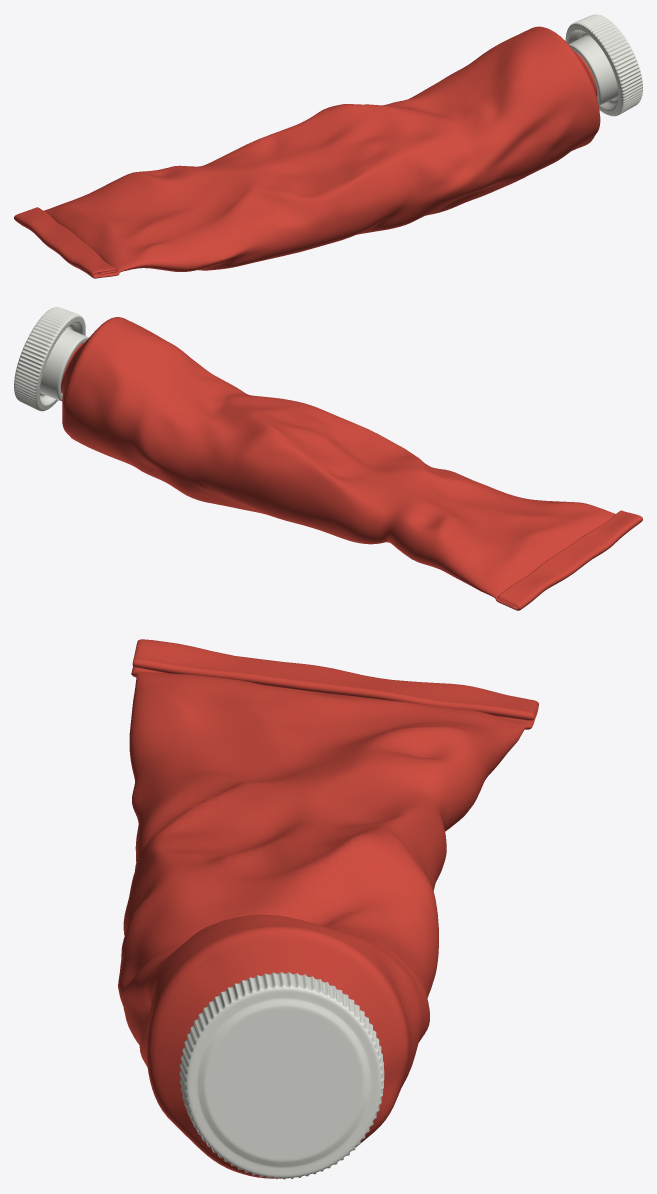
Rendered from paint_container_tube_f01.glb.
3 renders of one model, top to bottom at view 1: azimuth 30°, elevation 25°; view 2: azimuth 150°, elevation 25°; view 3: azimuth 270°, elevation 25°, orthographic. The views are drawn at different scales.
Bounding box in the file's own units: 0.11 × 0.0261 × 0.0353.
